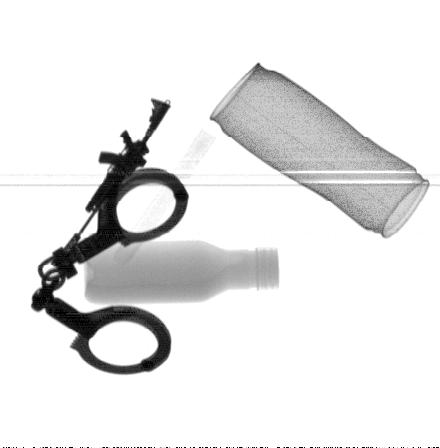Gun: (47, 93, 172, 271)
HandCuffs: (24, 168, 191, 375)
